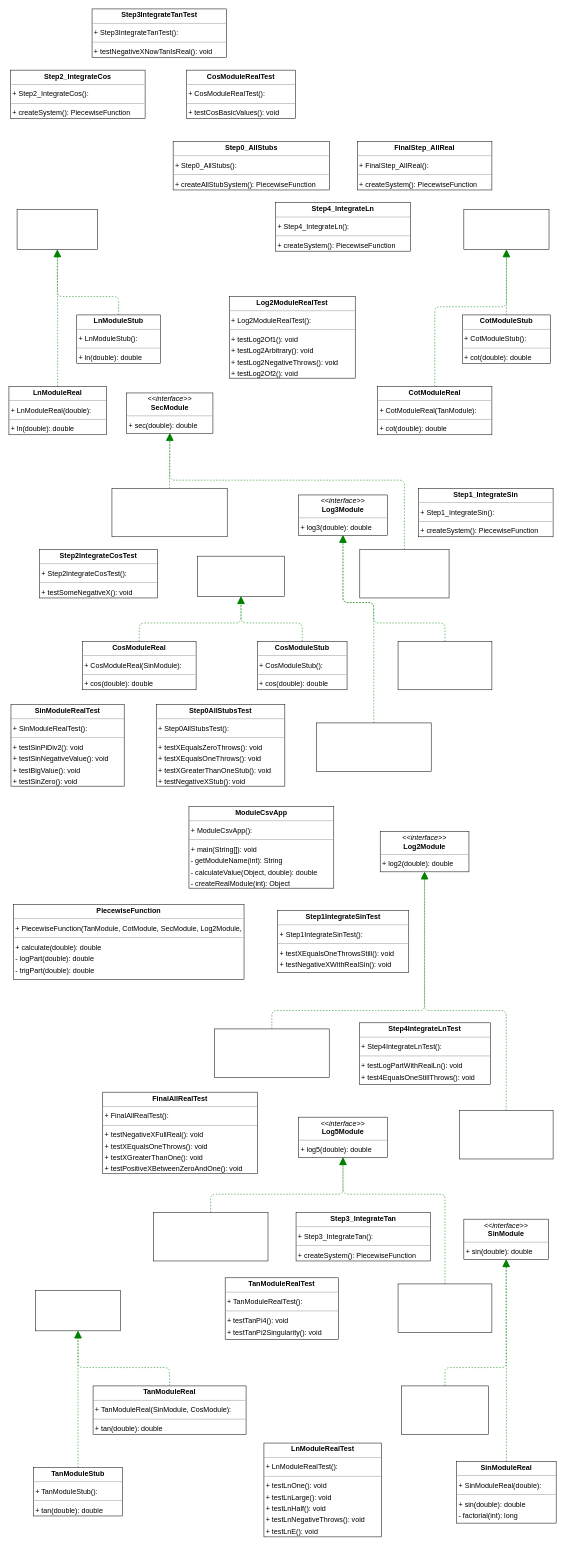
The diagram is 565 pixels wide and 1546 high, and some of its shapes have lost their labels. The centre of each missing label's shape, as x and y in pixels:
"<<interface>> CosModule + cos(double): double" goes at [240,576].
"<<interface>> CotModule + cot(double): double" goes at [506,229].
"<<interface>> LnModule + ln(double): double" goes at [57,229].
"<<interface>> TanModule + tan(double): double" goes at [78,1310].
"Log2ModuleReal + Log2ModuleReal(LnModule): + log2(double): double" goes at [271,1052].
"Log2ModuleStub + Log2ModuleStub(): + log2(double): double" goes at [506,1134].
"Log3ModuleReal + Log3ModuleReal(LnModule): + log3(double): double" goes at [373,746].
"Log3ModuleStub + Log3ModuleStub(): + log3(double): double" goes at [445,665].
"Log5ModuleReal + Log5ModuleReal(LnModule): + log5(double): double" goes at [210,1236].
"Log5ModuleStub + Log5ModuleStub(): + log5(double): double" goes at [445,1307].
"SecModuleReal + SecModuleReal(CosModule): + sec(double): double" goes at [169,512].
"SecModuleStub + SecModuleStub(): + sec(double): double" goes at [404,573].
"SinModuleStub + SinModuleStub(): + sin(double): double" goes at [444,1409].
